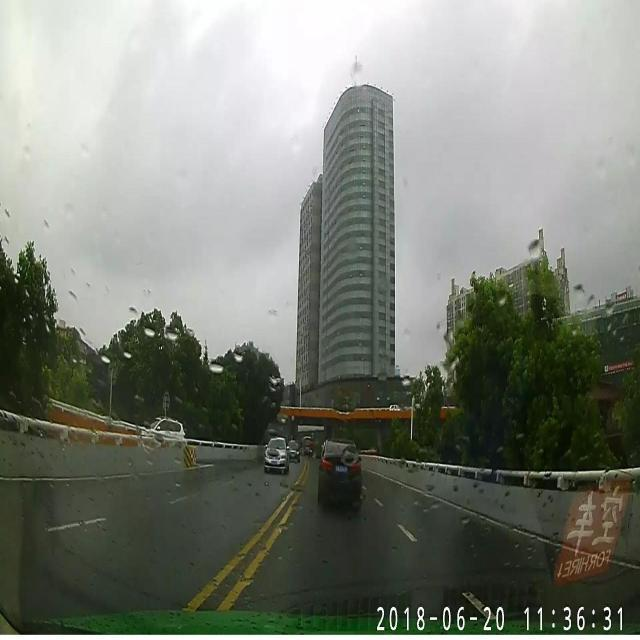car: (317, 438, 363, 510), (141, 418, 184, 452), (264, 436, 290, 476), (288, 437, 300, 463), (302, 432, 314, 458)
